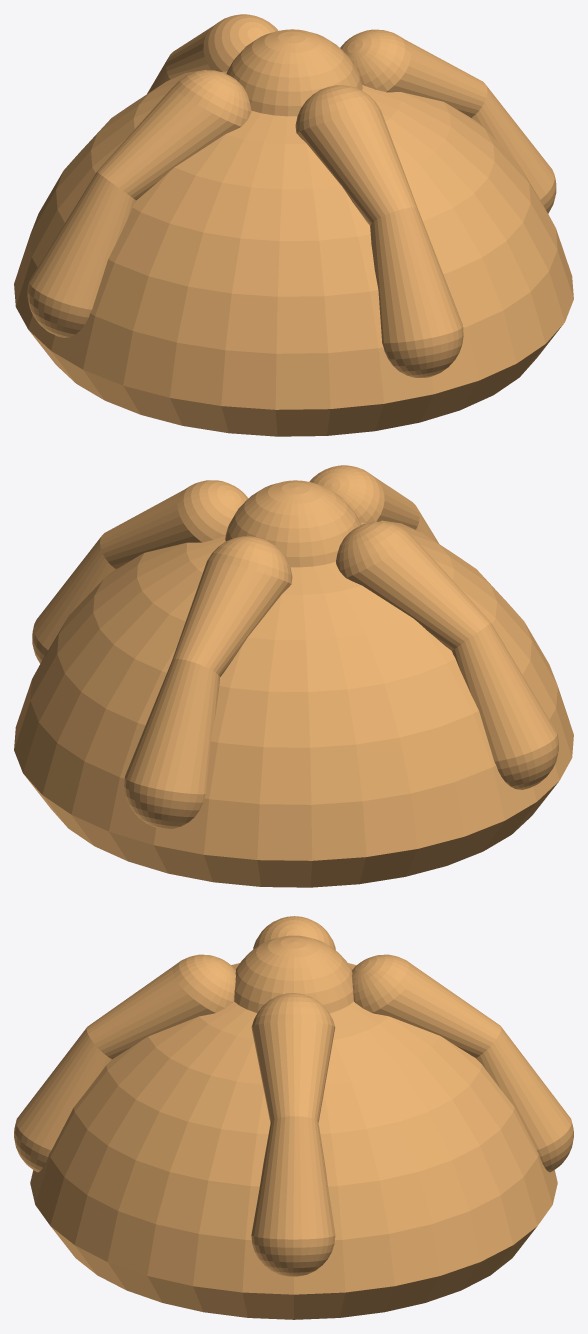
File: PanDeMuerto1.fbx
3 renders of one model, top to bottom at view 1: azimuth 30°, elevation 25°; view 2: azimuth 150°, elevation 25°; view 3: azimuth 270°, elevation 25°, orthographic. The views are drawn at different scales.
Visible parts, largest first — view 1: Base, Huesito.001, Huesito.002, Huesito.003, Tapa, Huesito; view 2: Base, Huesito, Huesito.002, Huesito.003, Tapa, Huesito.001; view 3: Base, Huesito.003, Huesito.001, Huesito, Tapa, Huesito.002.
Boxes of the visible parts, x1,y1,x2,y2 form: Base: [14, 69, 573, 436]; Huesito.001: [295, 85, 463, 377]; Huesito.002: [27, 70, 251, 337]; Huesito.003: [340, 29, 556, 213]; Tapa: [226, 29, 362, 116]; Huesito: [147, 14, 278, 93]; Base: [14, 520, 573, 887]; Huesito: [124, 536, 292, 828]; Huesito.002: [336, 521, 558, 789]; Huesito.003: [32, 480, 248, 663]; Tapa: [225, 480, 361, 567]; Huesito.001: [309, 465, 438, 543]; Base: [30, 963, 557, 1319]; Huesito.003: [251, 993, 335, 1276]; Huesito.001: [14, 954, 235, 1172]; Huesito: [352, 954, 573, 1172]; Tapa: [234, 935, 353, 1013]; Huesito.002: [253, 916, 335, 950].
Size of the model in its own units: 208 by 114 by 208.
